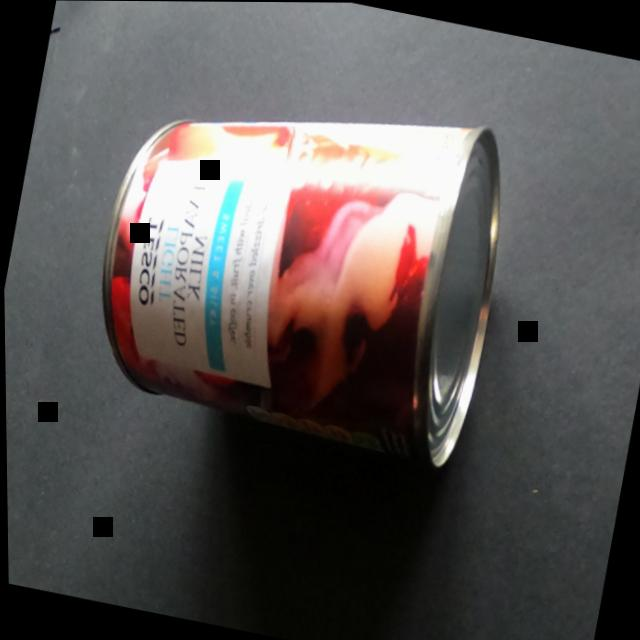Buttermilk: (31, 39, 552, 527)
